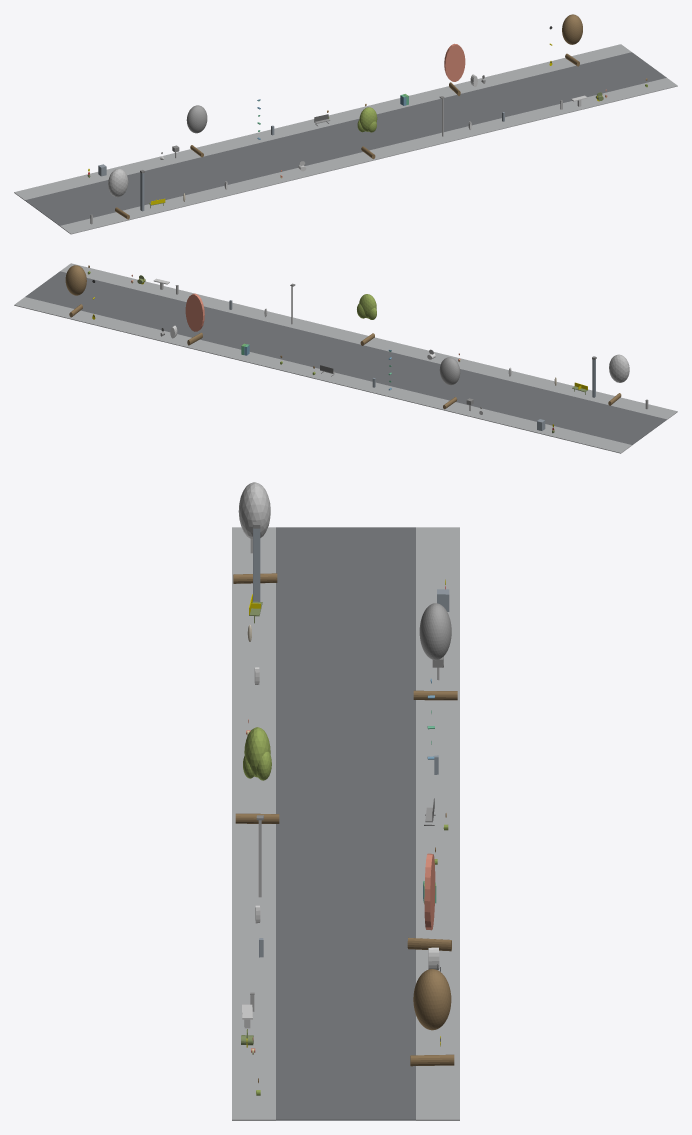
3 views of the same model, one above another, from view 1: azimuth 30°, elevation 25°; view 2: azimuth 150°, elevation 25°; view 3: azimuth 270°, elevation 25° (orthographic). The views are drawn at different scales.
Parts seen in each view (by area): view 1: road_slab, sidewalk_left, sidewalk_right, inst_0015, inst_0016, inst_0012, inst_0013, inst_0014; view 2: road_slab, sidewalk_right, sidewalk_left, inst_0015, inst_0016, inst_0012, inst_0013, inst_0014; view 3: road_slab, sidewalk_left, sidewalk_right, inst_0016, inst_0013, inst_0012, inst_0014, inst_0015.
Part boxes in pixels (x1,y1,x2,y2): road_slab: [25, 52, 666, 225]; sidewalk_left: [60, 78, 677, 234]; sidewalk_right: [14, 44, 631, 200]; inst_0015: [444, 43, 465, 95]; inst_0016: [562, 14, 582, 66]; inst_0012: [108, 168, 129, 219]; inst_0013: [186, 105, 207, 157]; inst_0014: [357, 107, 377, 159]; road_slab: [25, 271, 666, 445]; sidewalk_right: [14, 297, 631, 453]; sidewalk_left: [60, 263, 677, 419]; inst_0015: [185, 293, 204, 345]; inst_0016: [65, 265, 86, 317]; inst_0012: [608, 354, 629, 405]; inst_0013: [439, 357, 460, 409]; inst_0014: [357, 294, 376, 345]; road_slab: [276, 527, 415, 1120]; sidewalk_left: [232, 527, 275, 1120]; sidewalk_right: [416, 527, 459, 1120]; inst_0016: [410, 969, 454, 1066]; inst_0013: [413, 603, 457, 700]; inst_0012: [233, 482, 277, 583]; inst_0014: [235, 727, 279, 823]; inst_0015: [407, 853, 451, 951].
Size of the model in its own units: 80 by 6.08 by 13.
